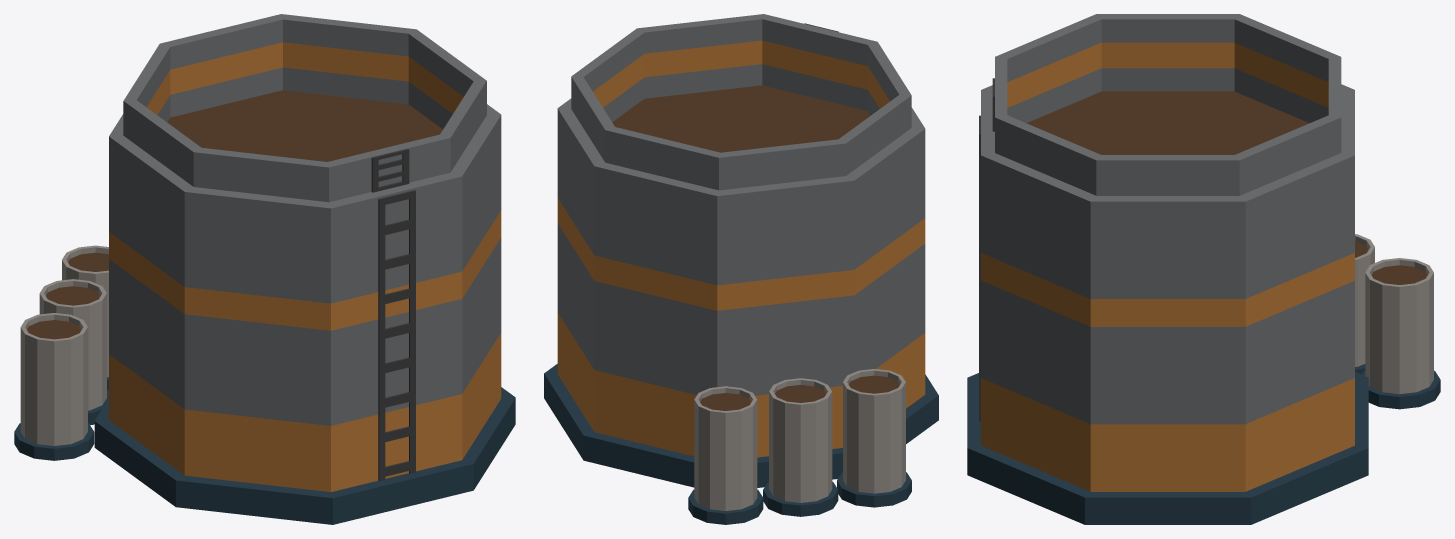
Rendered from Industrial Building_2.fbx.
3 renders of one model, left to right at view 1: azimuth 30°, elevation 25°; view 2: azimuth 150°, elevation 25°; view 3: azimuth 270°, elevation 25°, orthographic. The views are drawn at different scales.
Visible parts, largest first — view 1: Industrial Building_2; view 2: Industrial Building_2; view 3: Industrial Building_2.
Boxes of the visible parts, bbox=[...] form: Industrial Building_2: bbox=[14, 14, 515, 524]; Industrial Building_2: bbox=[544, 14, 938, 524]; Industrial Building_2: bbox=[967, 14, 1440, 524].
Size of the model in its own units: 730 by 600 by 730.
